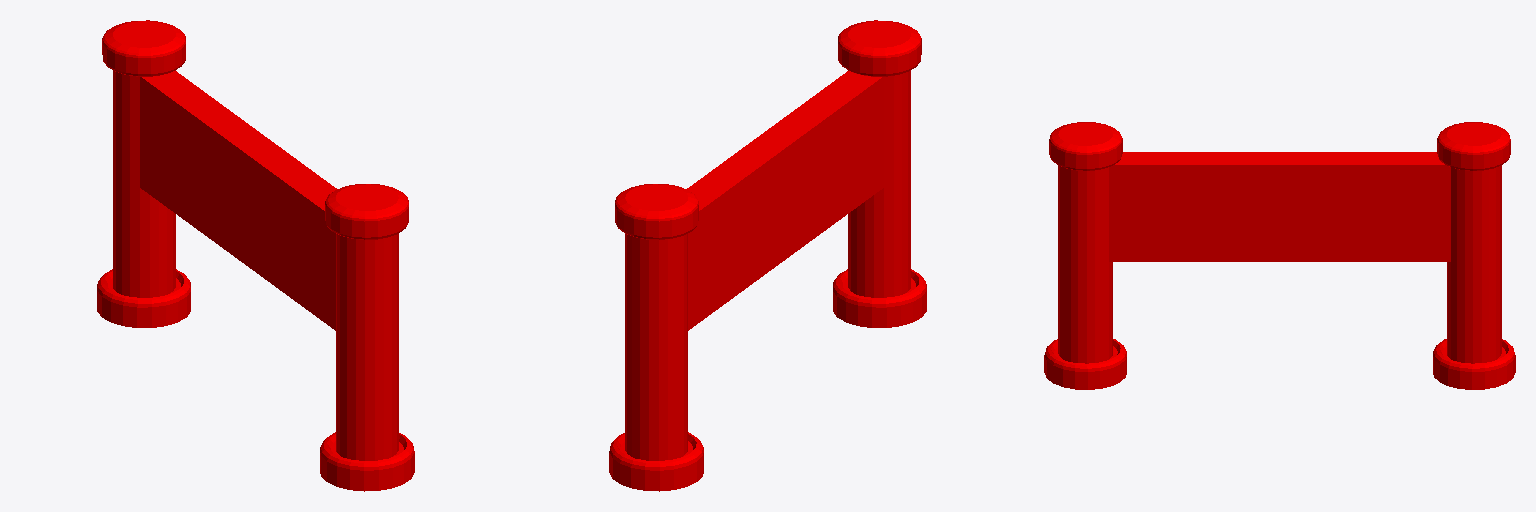
The robot description file, URDF, robot "bar":
<?xml version="1.0"?>
<robot name="bar">
  <link name="base">
   <contact>
      <lateral_friction value="1.0"/>
      <rolling_friction value="0.0"/>
      <contact_cfm value="0.0"/>
      <contact_erp value="1.0"/>
    </contact>
    <inertial>
      <origin rpy="0 0 0" xyz="0 0 0"/>
       <mass value="1.0"/>
       <inertia ixx="1" ixy="0" ixz="0" iyy="1" iyz="0" izz="1"/>
    </inertial>
    <visual>
      <geometry>
        <mesh filename="OBJ/bar.obj" scale="1 1 1"/>
      </geometry>
      <origin rpy="0 0 0" xyz="0 0 0" />
      <material name="red"/>
    </visual>
    <collision>
      <origin rpy="0 0 0" xyz="0 0 0"/>
      <geometry>
         <mesh filename="OBJ/bar.obj" scale="1 1 1"/>
      </geometry>
    </collision>
  </link>

<material name="red"><color rgba="0.99 0 0 1"/></material>
<material name="orange"><color rgba="1 0.5 0 1"/></material>
<material name="yellow"><color rgba="0.95 0.95 0 1"/></material>
<material name="green"><color rgba="0 0.99 0 1"/></material>
<material name="skyblue"><color rgba="0.53 0.81 0.92 1"/></material>
<material name="blue"><color rgba="0 0 0.99 1"/></material>
<material name="purple"><color rgba="0.95 0 0.95 1"/></material>



</robot>

--- Render facts (derived) ---
The picture shows the robot from 3 angles, left to right: view 1: azimuth 30°, elevation 25°; view 2: azimuth 150°, elevation 25°; view 3: azimuth 270°, elevation 25°; orthographic projection.
Model bar with 1 links and 0 joints (none), rooted at base, posed all joints at 0.
Visible links, largest first — view 1: base; view 2: base; view 3: base.
Link boxes in pixels (box(x1,y1,x2,y2)): base: box(97, 20, 414, 491); base: box(609, 20, 926, 491); base: box(1044, 122, 1515, 389).
Size in the robot's own frame: 0.0247 by 0.1403 by 0.0784 metres.
Meshes: 1 distinct files referenced, 1 mesh visuals loaded (1 OBJ).